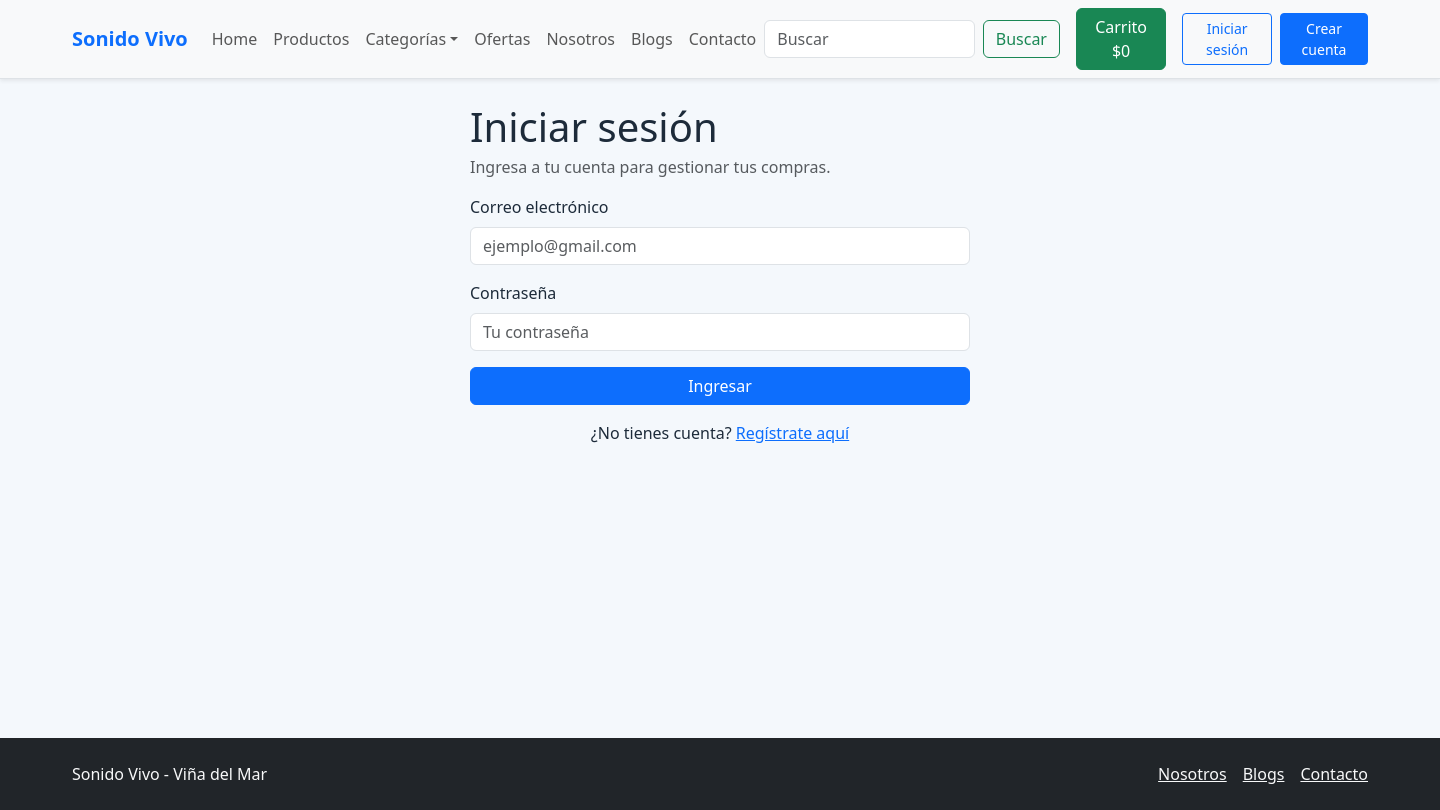
Login › con el formulario vacío muestra los errores de validación
The image size is (1440, 810).
Click the button "Ingresar" at x=720, y=386, box x1=470 y1=367 x2=970 y2=405
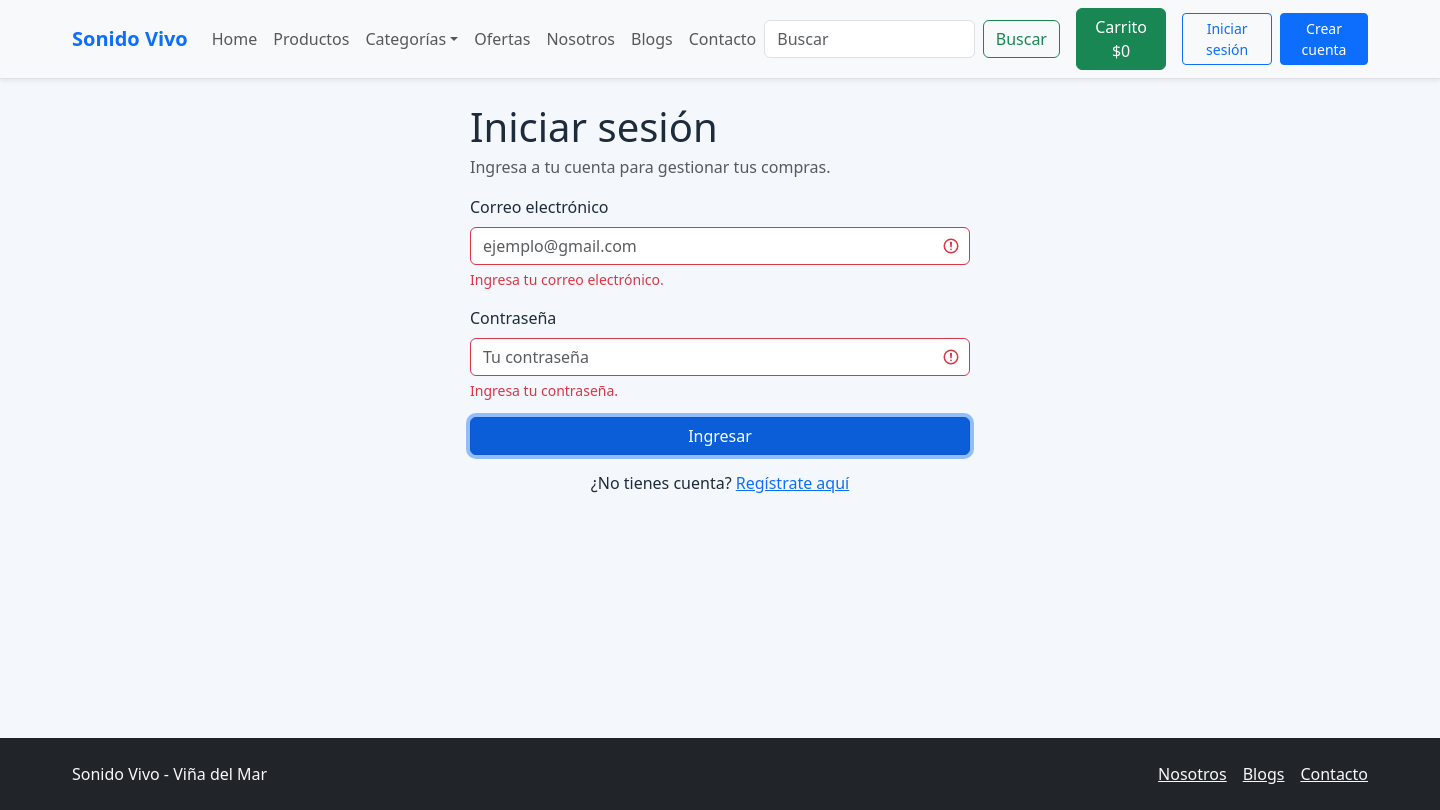
expect the text "Ingresa tu correo electrónico." is shown: met, box x1=470 y1=270 x2=664 y2=289
expect the text "Ingresa tu contraseña." is shown: met, box x1=470 y1=381 x2=618 y2=400
